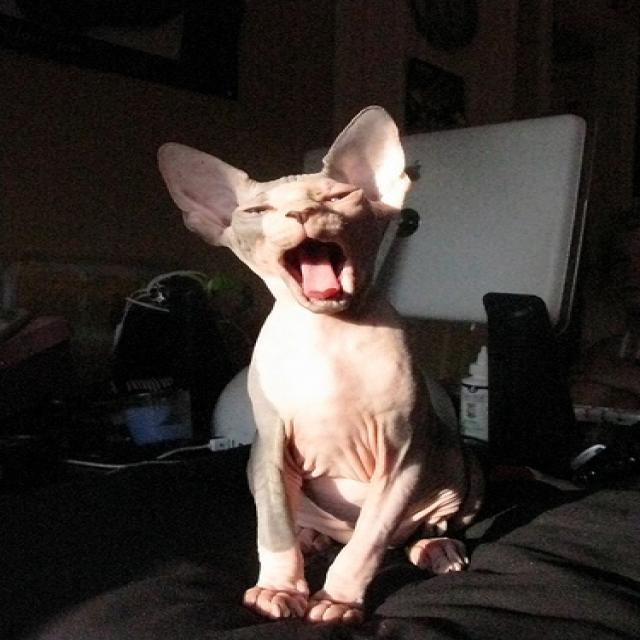Sphynx: (155, 103, 408, 313)
